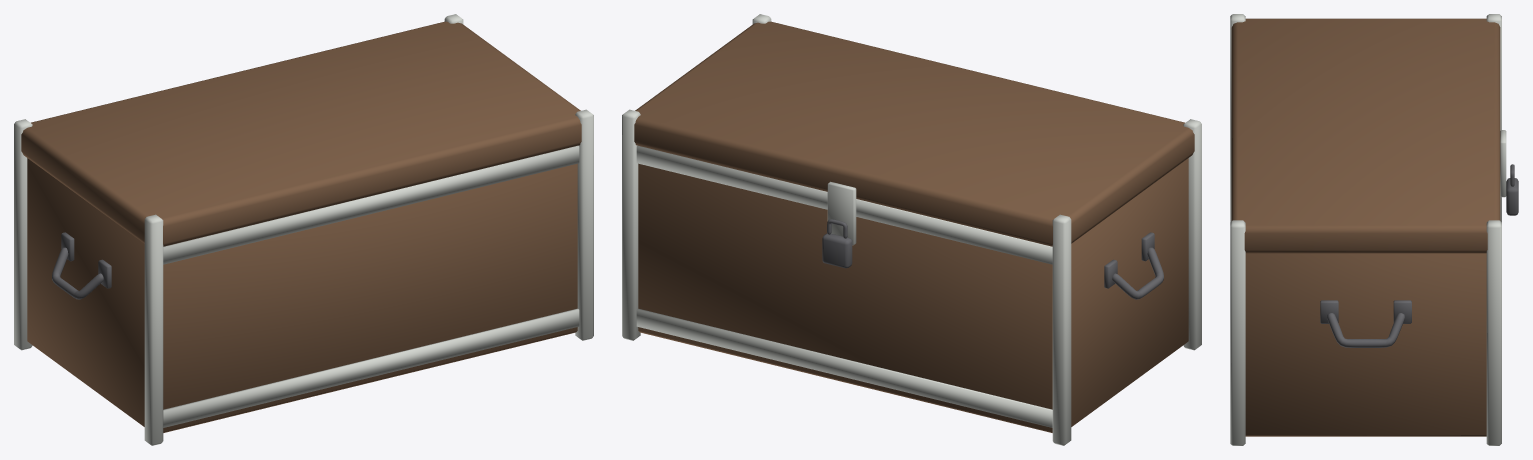
Rendered from footlocker.glb.
3 views of the same model, side by side, from view 1: azimuth 30°, elevation 25°; view 2: azimuth 150°, elevation 25°; view 3: azimuth 270°, elevation 25° (orthographic).
Parts seen in each view (by area): view 1: footlocker; view 2: footlocker; view 3: footlocker.
Boxes of the visible parts, <box> form: footlocker: <box>14,14,593,445</box>; footlocker: <box>622,14,1201,445</box>; footlocker: <box>1230,14,1518,445</box>.
Bounding box in the file's own units: 0.8943 × 0.4 × 0.4725.
